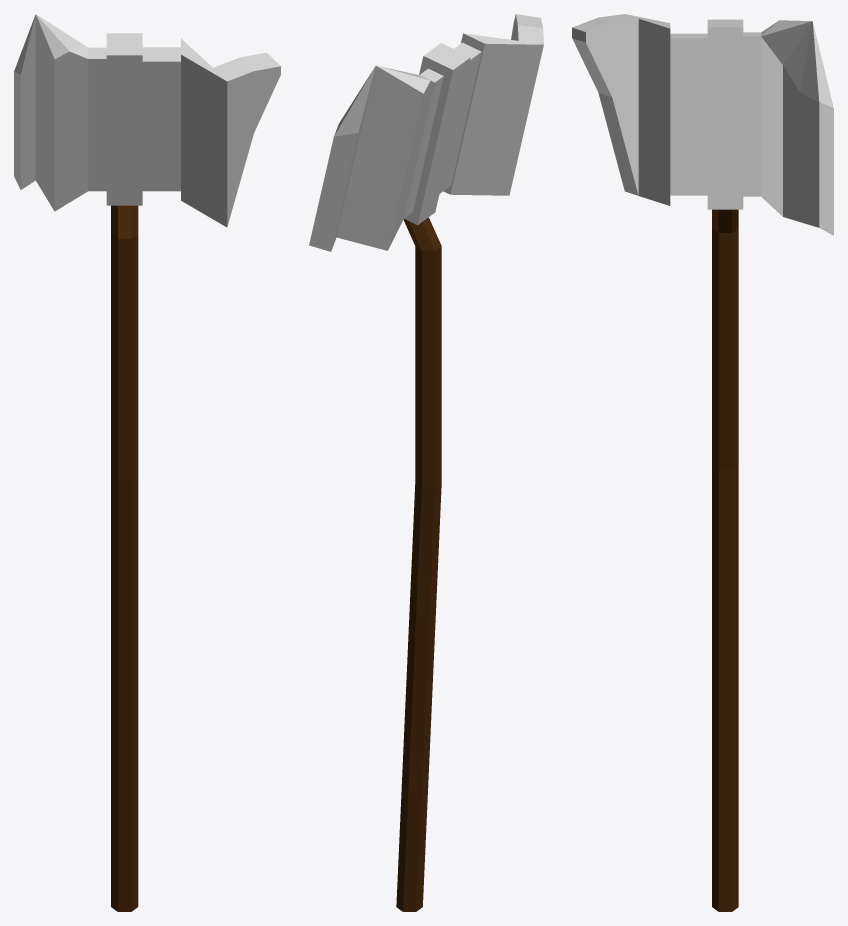
File: axe_broken.fbx
3 views of the same model, side by side, from view 1: azimuth 90°, elevation 25°; view 2: azimuth 150°, elevation 25°; view 3: azimuth 270°, elevation 25° (orthographic). The views are drawn at different scales.
Parts seen in each view (by area): view 1: Cylinder.002, Cylinder; view 2: Cylinder.002, Cylinder; view 3: Cylinder.002, Cylinder.
Part boxes in pixels (left/top/right/bottom): Cylinder.002: left=14, top=14, right=280, bottom=227; Cylinder: left=111, top=205, right=138, bottom=911; Cylinder.002: left=309, top=14, right=543, bottom=251; Cylinder: left=396, top=217, right=441, bottom=911; Cylinder.002: left=572, top=14, right=833, bottom=235; Cylinder: left=712, top=209, right=738, bottom=911.
Size of the model in its own units: 871 by 5482 by 1476.
